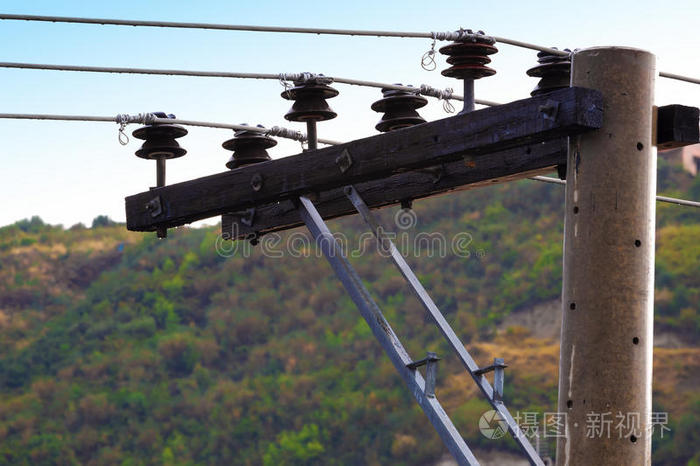insulator: (280, 81, 344, 123), (439, 39, 502, 80), (370, 91, 438, 125), (132, 121, 189, 160), (218, 132, 281, 164), (528, 58, 577, 95)
